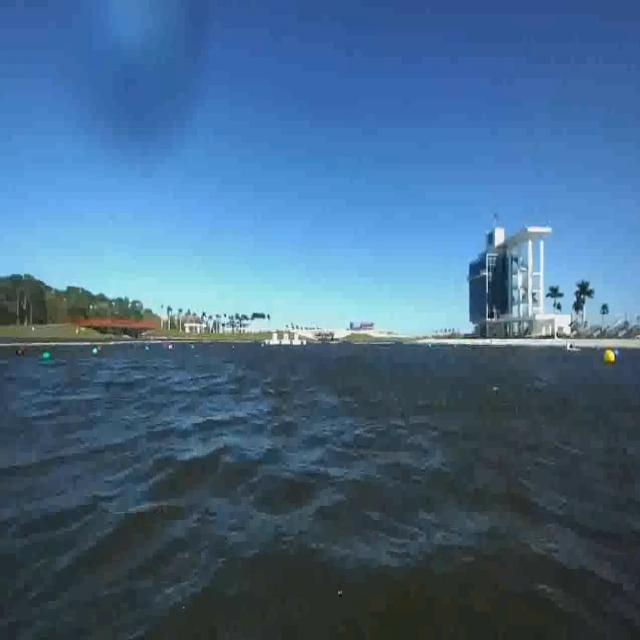green-buoy: (40, 347, 52, 366)
yellow-buoy: (604, 348, 615, 363)
